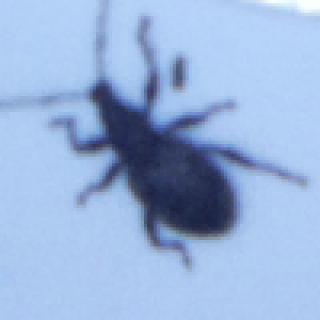bvw: (0, 0, 308, 271)
